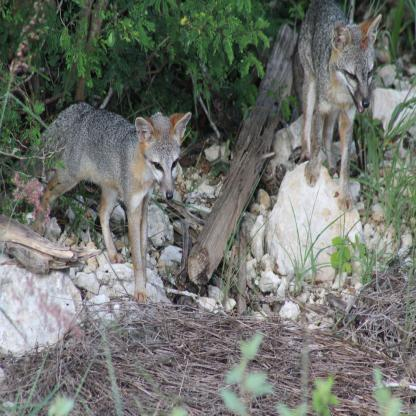zorro: (18, 87, 197, 326), (291, 1, 384, 226)
